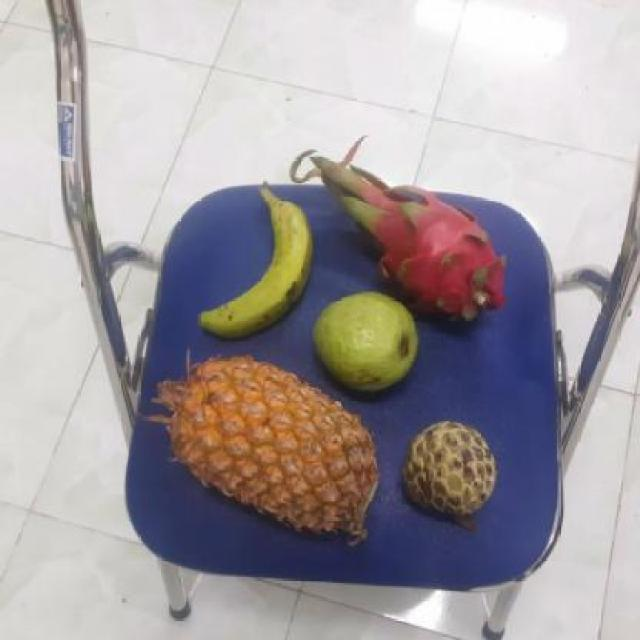banana: (192, 191, 316, 343)
dragon fruit: (354, 191, 494, 320)
guava: (306, 290, 420, 396)
pineapple: (158, 355, 379, 540)
sugar apple: (397, 422, 495, 522)
